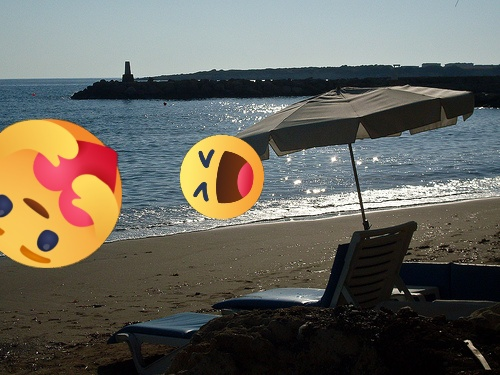care: (0, 119, 122, 268)
haha: (180, 135, 264, 219)
